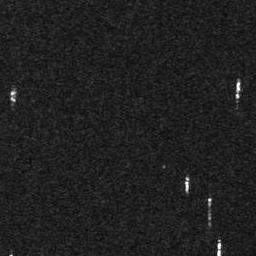ship: (215, 240, 225, 255), (235, 79, 241, 101), (8, 91, 19, 102), (184, 175, 190, 192)
